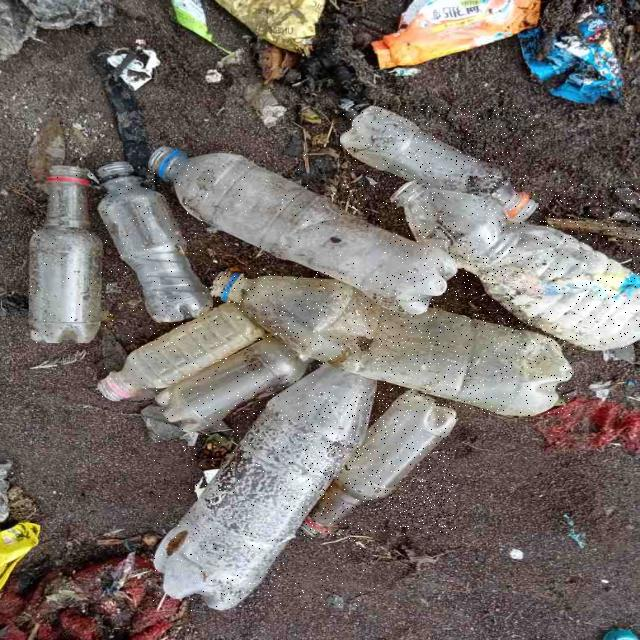glass: (302, 392, 457, 534), (97, 163, 213, 321), (156, 339, 308, 431), (29, 164, 101, 343)
plastic: (154, 366, 377, 610), (213, 271, 573, 416), (164, 152, 457, 314), (394, 181, 640, 350), (340, 105, 537, 221), (98, 304, 264, 401)
